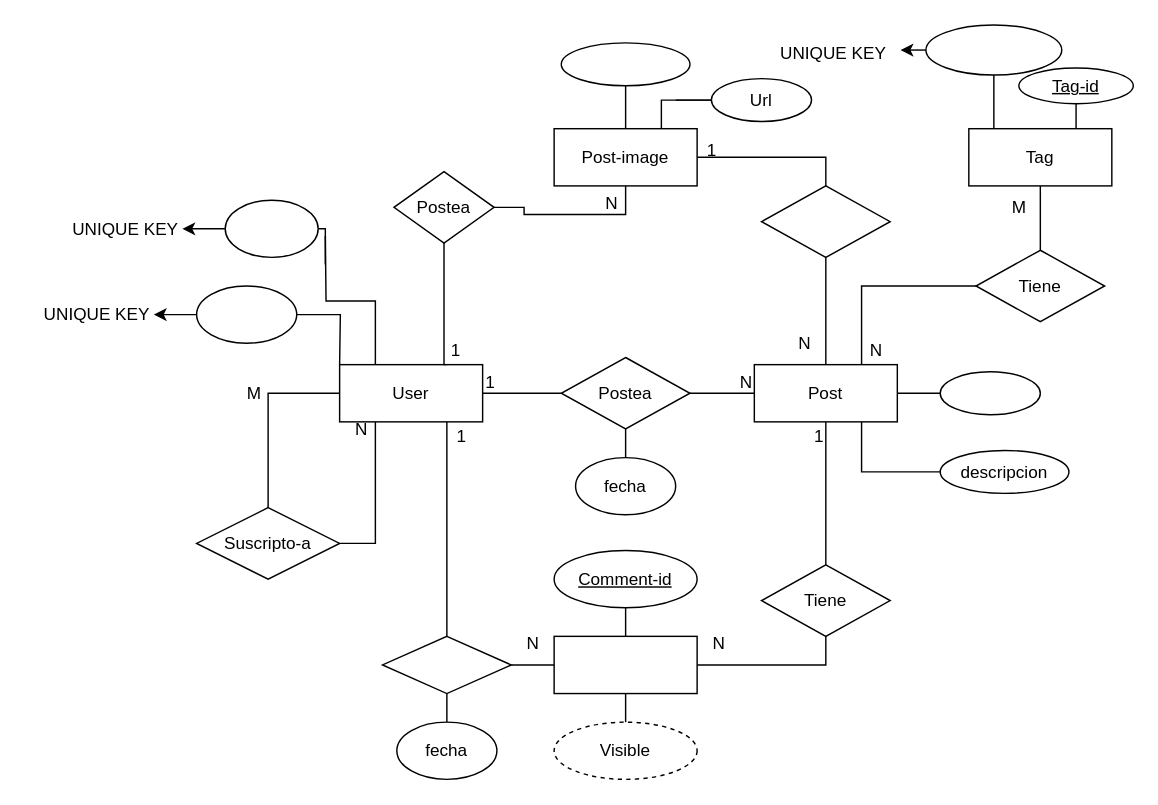
The diagram is 1158 pixels wide and 805 high, and some of its shapes have lost their labels. The shapes that lost their labels are listed below. From the top down, each one's centre as x and y in pixels, then its label:
[625,63]: Post_image-id
[993,49]: tackNamne
[271,228]: emial
[825,220]: Asocia
[246,314]: nickName
[989,392]: Post-id
[446,664]: Comenta
[625,664]: Comment
